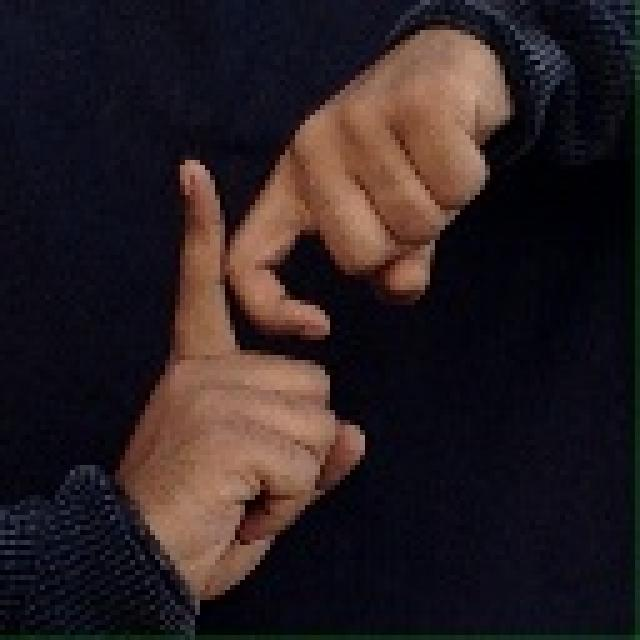Alphabet-K: (124, 26, 524, 608)
